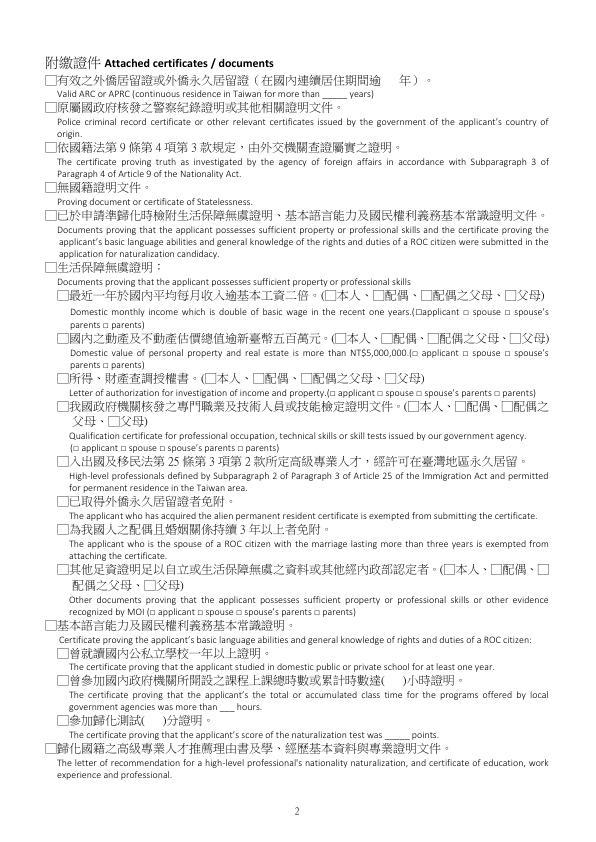check_box: (42, 73, 58, 89), (43, 208, 59, 224), (42, 101, 59, 116), (424, 330, 441, 345), (379, 329, 394, 346), (53, 495, 70, 510), (536, 562, 550, 580), (42, 180, 58, 195), (54, 522, 69, 538), (54, 562, 70, 577), (55, 673, 70, 689), (43, 260, 58, 275), (55, 332, 70, 347), (323, 289, 339, 303), (503, 287, 517, 303), (106, 414, 120, 430), (500, 400, 514, 416), (42, 619, 58, 633), (43, 741, 57, 757), (141, 579, 158, 592), (443, 561, 456, 578), (490, 562, 503, 579), (56, 287, 70, 302), (371, 288, 384, 304), (334, 330, 347, 346), (54, 400, 70, 413), (54, 455, 70, 468), (203, 372, 217, 386), (44, 140, 57, 155), (508, 331, 523, 344), (54, 372, 69, 385), (299, 371, 312, 386), (454, 400, 467, 415), (419, 289, 432, 303), (252, 372, 265, 386), (384, 372, 397, 386), (406, 400, 420, 413), (56, 647, 69, 661), (56, 715, 69, 727), (460, 307, 470, 317), (502, 350, 511, 359), (503, 308, 511, 318), (462, 350, 470, 360), (119, 444, 127, 454), (233, 608, 243, 616), (103, 361, 110, 372), (236, 443, 243, 454), (411, 350, 420, 358), (312, 607, 319, 617), (415, 307, 422, 316), (72, 444, 79, 453), (196, 609, 203, 618), (159, 444, 165, 454), (150, 609, 156, 618)
input: (379, 674, 407, 689), (321, 88, 348, 102), (384, 729, 411, 742), (141, 715, 166, 728), (219, 701, 233, 715)
text: (55, 224, 556, 260), (55, 116, 550, 139), (56, 758, 554, 780), (66, 539, 552, 561), (67, 471, 551, 493), (56, 157, 550, 178), (70, 454, 530, 469), (56, 208, 549, 221), (58, 633, 534, 645), (58, 74, 431, 89), (70, 562, 440, 577), (57, 741, 451, 755), (57, 140, 401, 155), (68, 510, 537, 521), (44, 49, 276, 71), (68, 690, 550, 700), (70, 672, 380, 687), (67, 595, 553, 604), (68, 662, 497, 672), (67, 432, 526, 441), (69, 400, 402, 412), (70, 287, 318, 302), (70, 523, 331, 537), (70, 331, 327, 345), (67, 306, 413, 316), (69, 729, 383, 740), (58, 101, 345, 113), (57, 277, 415, 286), (58, 618, 294, 631), (69, 348, 408, 357), (70, 647, 274, 660), (70, 388, 327, 398), (55, 89, 319, 98), (69, 495, 236, 509), (69, 371, 198, 386), (55, 198, 256, 207), (64, 701, 217, 711), (58, 261, 164, 274), (56, 182, 154, 196), (70, 577, 140, 593), (433, 286, 501, 302), (313, 371, 380, 387), (70, 714, 139, 728), (440, 330, 504, 345), (67, 607, 147, 617), (408, 674, 464, 688), (243, 607, 312, 617), (424, 388, 491, 398), (513, 400, 553, 415), (385, 287, 418, 304), (264, 371, 298, 386), (71, 414, 105, 429), (456, 562, 490, 577), (393, 330, 424, 346), (167, 715, 212, 726), (166, 445, 235, 452), (466, 398, 498, 413), (336, 288, 370, 302), (503, 563, 534, 578), (521, 331, 554, 344), (396, 370, 424, 385), (156, 579, 188, 592), (515, 307, 549, 319), (348, 331, 377, 345), (217, 372, 248, 385), (517, 288, 545, 302), (79, 443, 118, 453), (322, 608, 357, 619), (121, 415, 150, 428), (422, 309, 459, 319), (111, 320, 147, 330), (514, 349, 550, 359), (158, 607, 194, 617), (236, 702, 264, 714), (471, 309, 501, 320), (471, 349, 501, 360), (422, 349, 458, 358), (245, 444, 281, 453), (111, 361, 146, 370), (419, 400, 445, 412), (411, 729, 437, 741), (68, 320, 101, 329), (337, 390, 374, 398), (385, 389, 414, 399), (205, 608, 233, 618), (70, 361, 100, 370), (128, 444, 157, 453), (351, 90, 376, 100), (502, 390, 536, 397)
